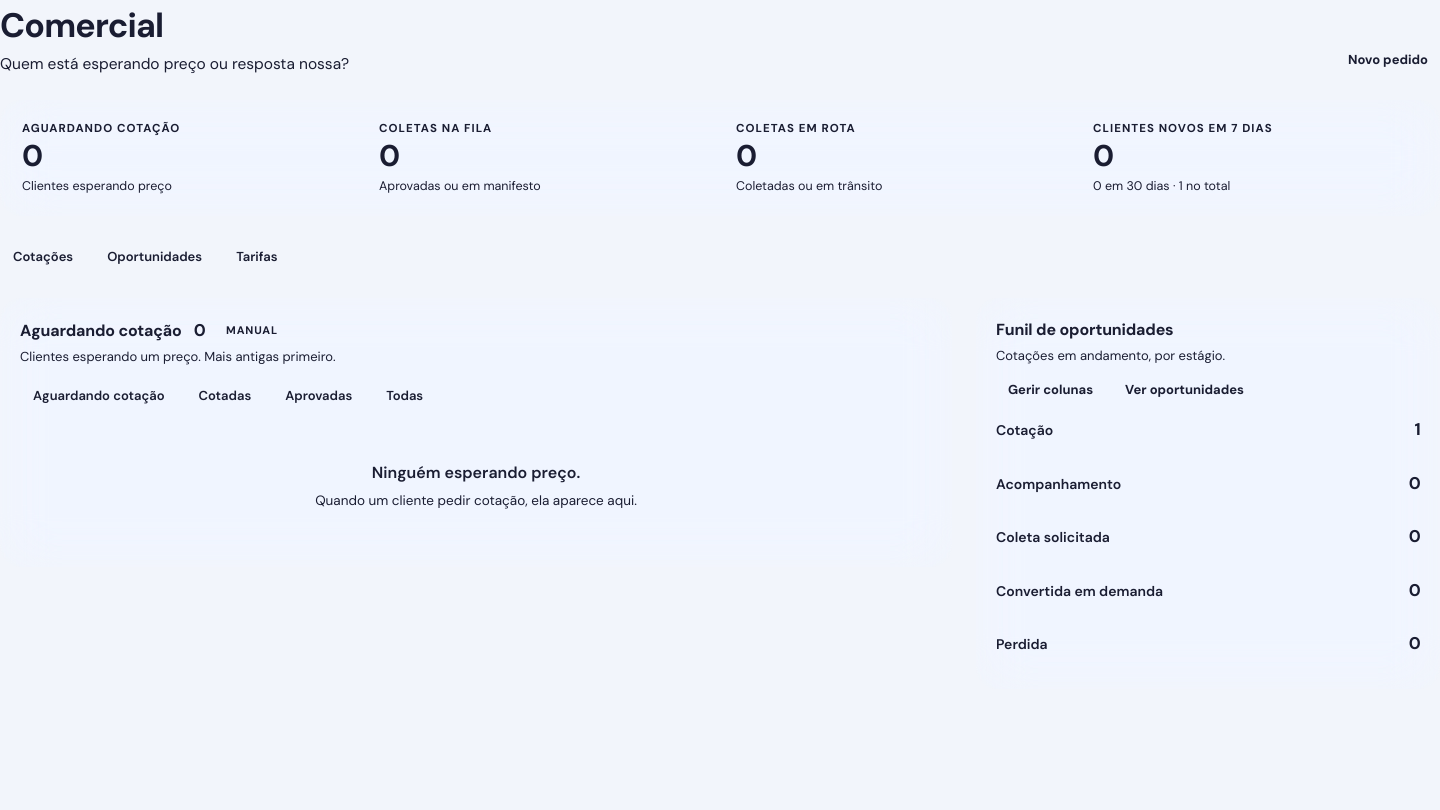
Test: Comercial: demanda, colunas do funil e chat › gerencia colunas: cria com nome e cor, valida nome vazio, renomeia e confirma a exclusão
Later steps or results of the test are not shown.
Click the button "Gerir colunas" at (1050, 390), box x1=996 y1=374 x2=1105 y2=406
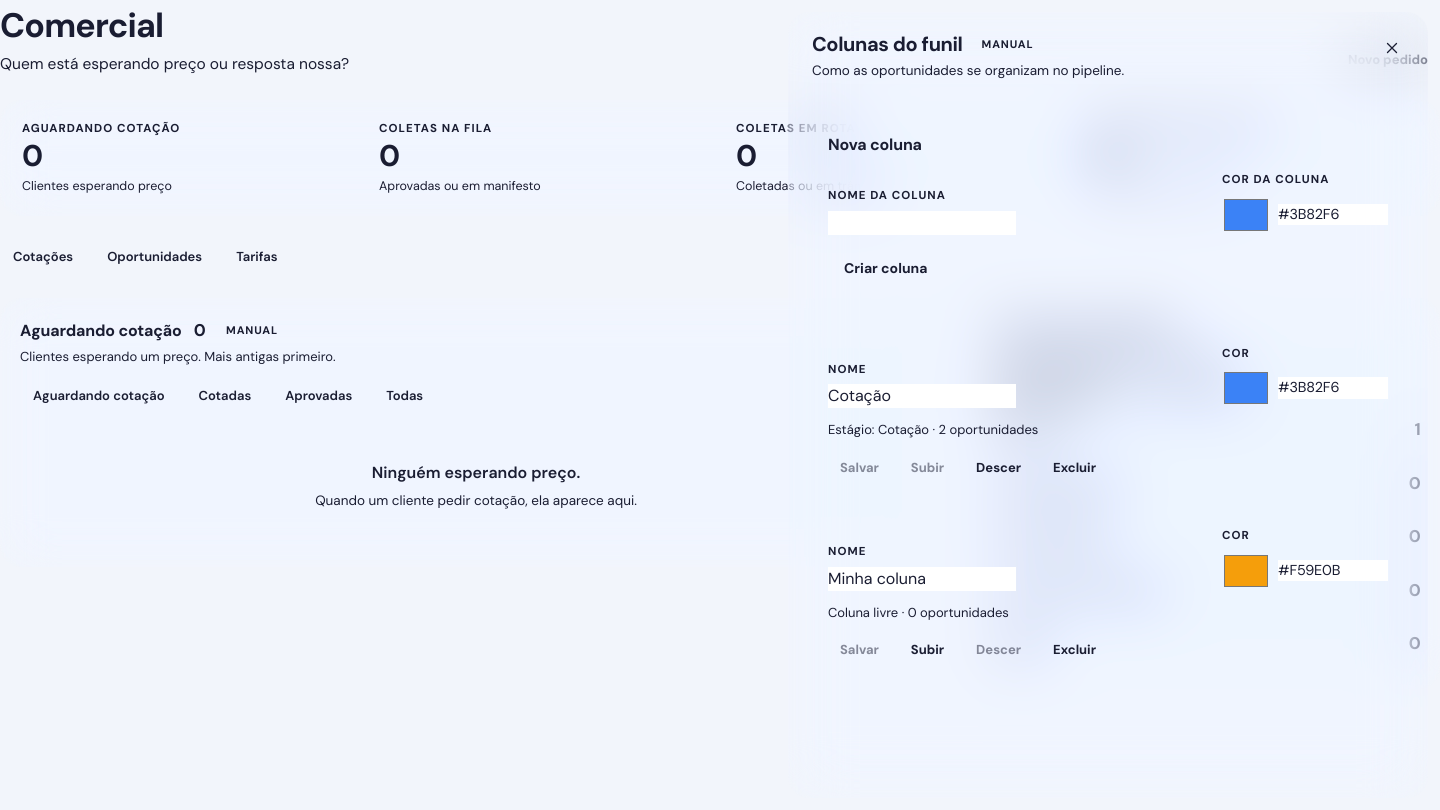
Click the button "Criar coluna" at (886, 268), box x1=828 y1=248 x2=943 y2=288
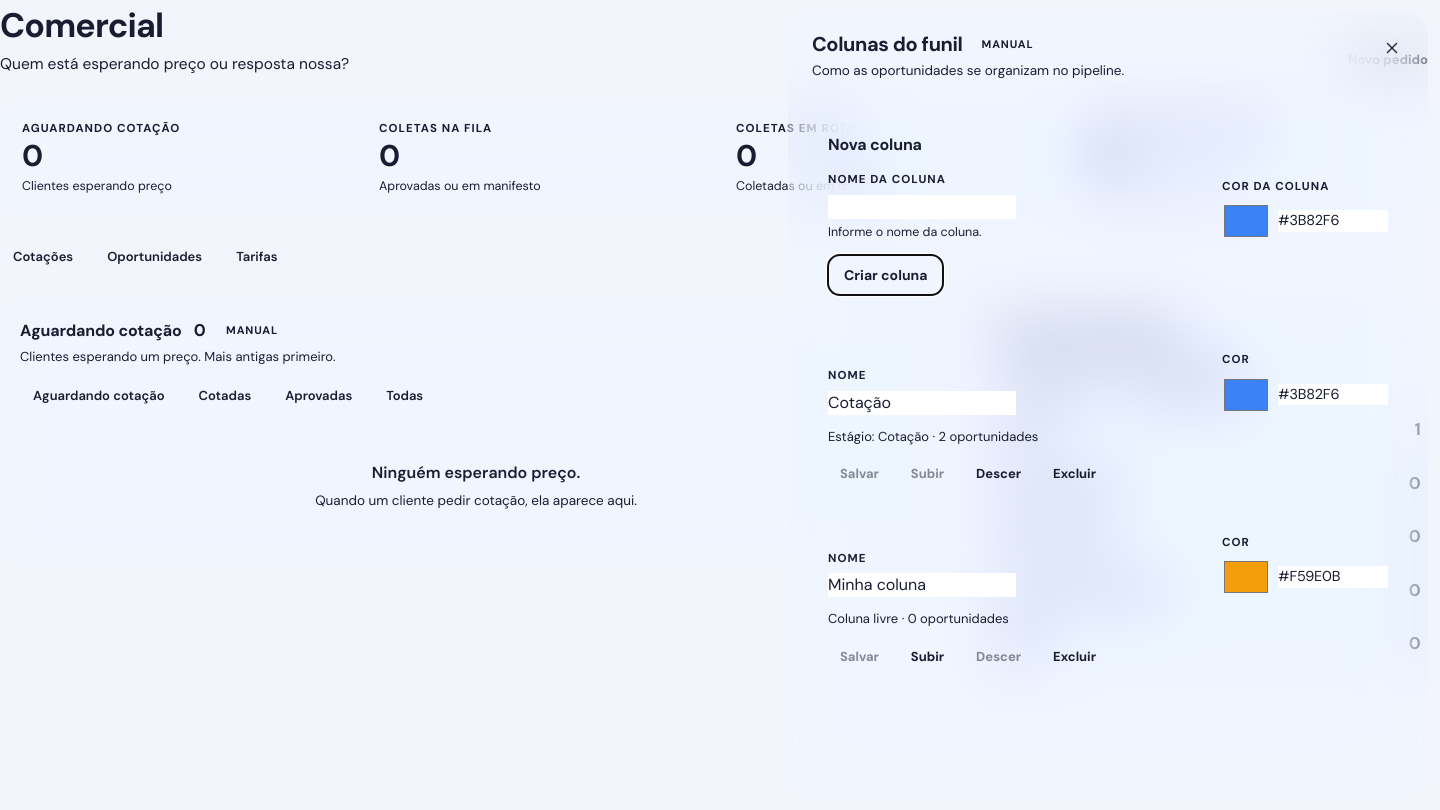
Expected: the text "Informe o nome da coluna." is shown, x1=828 y1=224 x2=982 y2=240
